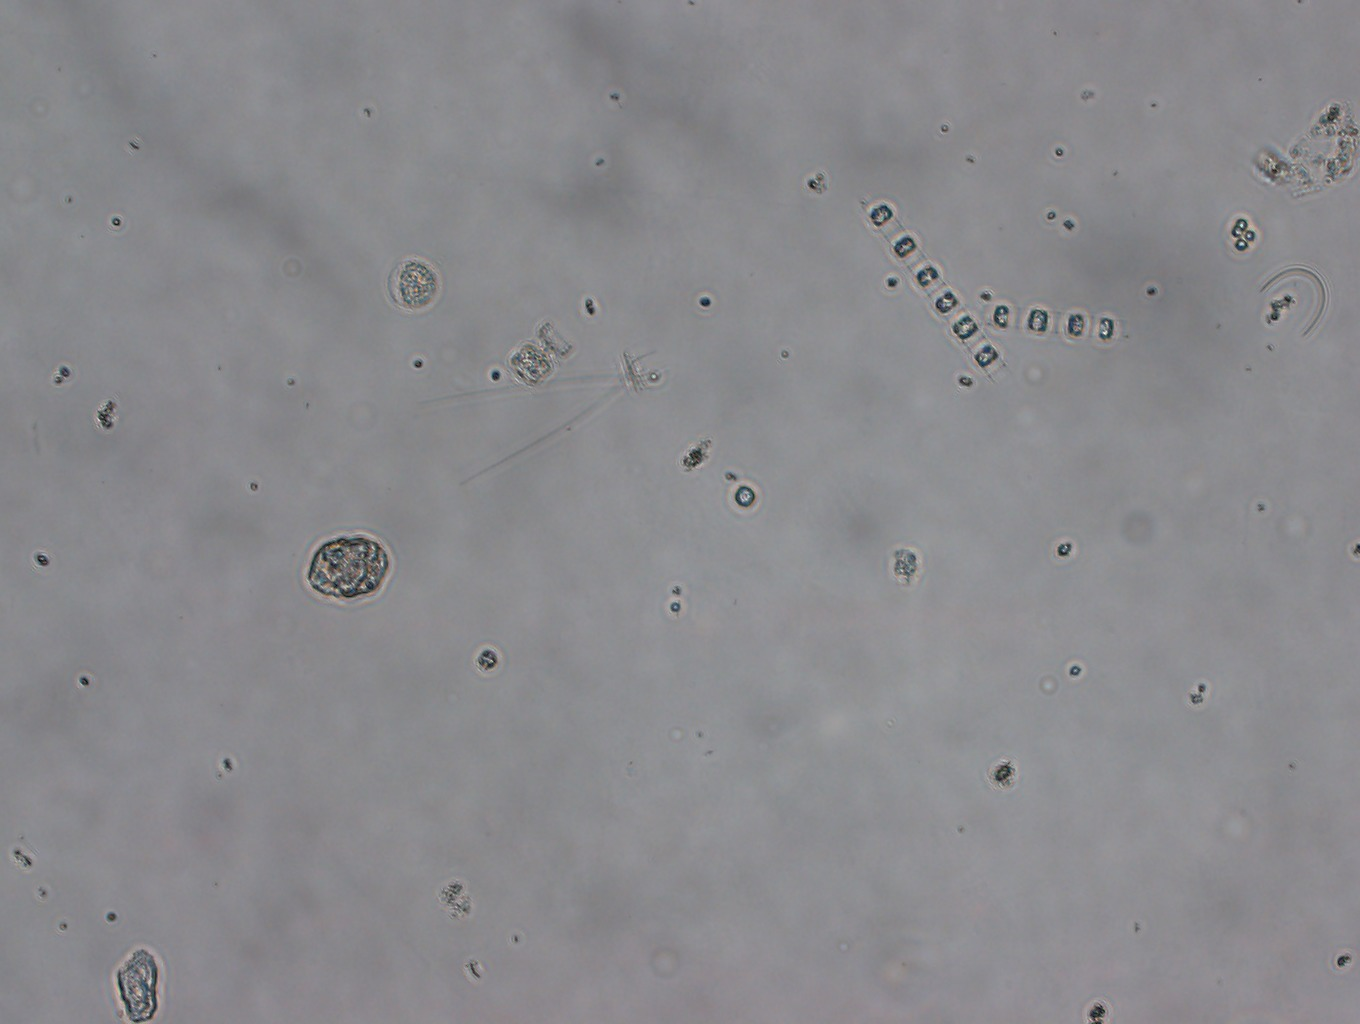skeletonema: (860, 191, 1013, 389), (989, 297, 1123, 347)
